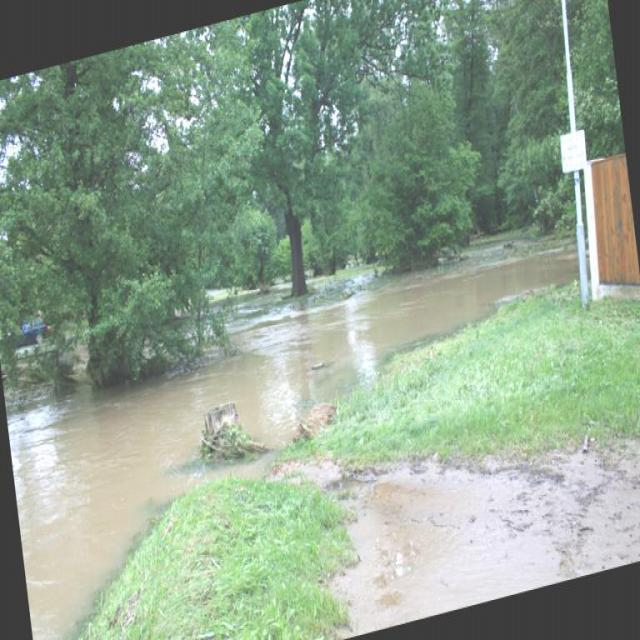flood: (2, 224, 603, 614)
